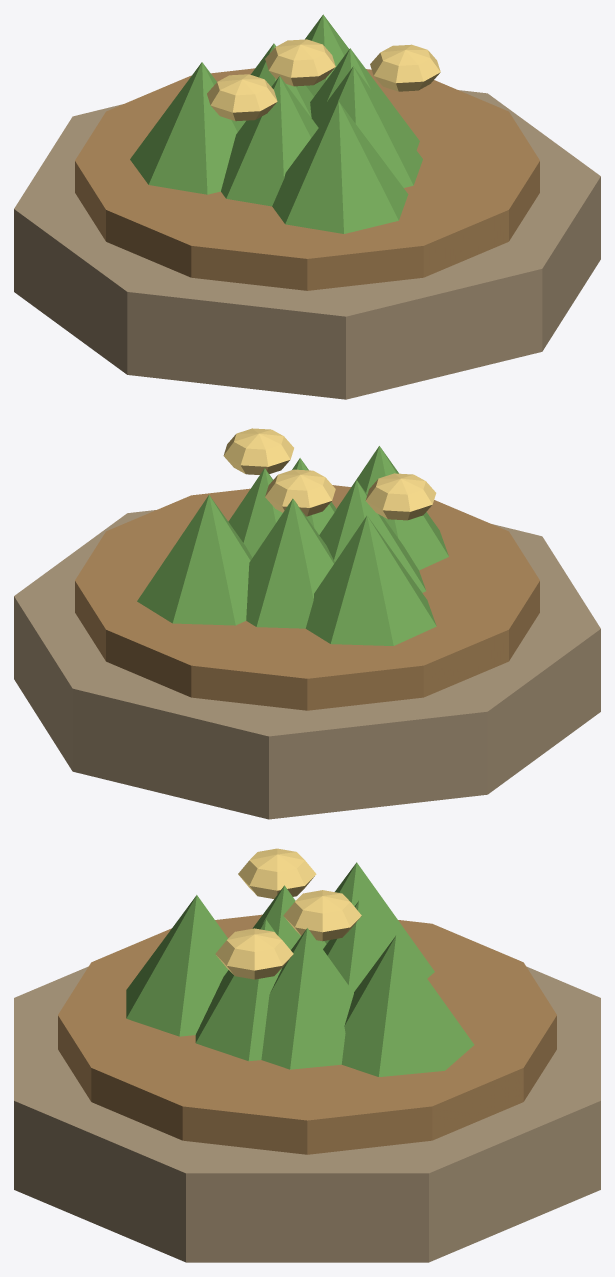
Rendered from city-module-flowerbed-lod0.glb.
3 views of the same model, one above another, from view 1: azimuth 30°, elevation 25°; view 2: azimuth 150°, elevation 25°; view 3: azimuth 270°, elevation 25° (orthographic). The views are drawn at different scales.
Parts seen in each view (by area): view 1: module_flowerbed_stone_ring, module_flowerbed_soil, module_flowerbed_leaf_6, module_flowerbed_leaf_4, module_flowerbed_leaf_5, module_flowerbed_leaf_7, module_flowerbed_blossom_3, module_flowerbed_blossom_2, module_flowerbed_blossom_1, module_flowerbed_leaf_1, module_flowerbed_leaf_2, module_flowerbed_leaf_3; view 2: module_flowerbed_stone_ring, module_flowerbed_soil, module_flowerbed_leaf_4, module_flowerbed_leaf_2, module_flowerbed_leaf_3, module_flowerbed_leaf_5, module_flowerbed_leaf_6, module_flowerbed_blossom_3, module_flowerbed_blossom_2, module_flowerbed_blossom_1, module_flowerbed_leaf_1, module_flowerbed_leaf_7; view 3: module_flowerbed_stone_ring, module_flowerbed_soil, module_flowerbed_leaf_2, module_flowerbed_leaf_1, module_flowerbed_leaf_6, module_flowerbed_leaf_7, module_flowerbed_blossom_2, module_flowerbed_leaf_3, module_flowerbed_blossom_1, module_flowerbed_blossom_3, module_flowerbed_leaf_4, module_flowerbed_leaf_5.
Boxes of the visible parts, bbox=[...] form: module_flowerbed_stone_ring: bbox=[14, 90, 600, 399]; module_flowerbed_soil: bbox=[75, 68, 539, 290]; module_flowerbed_leaf_6: bbox=[272, 101, 408, 233]; module_flowerbed_leaf_4: bbox=[130, 62, 245, 194]; module_flowerbed_leaf_5: bbox=[221, 76, 318, 206]; module_flowerbed_leaf_7: bbox=[313, 66, 422, 187]; module_flowerbed_blossom_3: bbox=[207, 74, 277, 121]; module_flowerbed_blossom_2: bbox=[370, 44, 440, 91]; module_flowerbed_blossom_1: bbox=[265, 39, 335, 86]; module_flowerbed_leaf_1: bbox=[310, 48, 419, 149]; module_flowerbed_leaf_2: bbox=[305, 14, 348, 96]; module_flowerbed_leaf_3: bbox=[245, 43, 313, 121]; module_flowerbed_stone_ring: bbox=[14, 510, 600, 819]; module_flowerbed_soil: bbox=[75, 485, 539, 710]; module_flowerbed_leaf_4: bbox=[305, 515, 436, 645]; module_flowerbed_leaf_2: bbox=[137, 495, 252, 625]; module_flowerbed_leaf_3: bbox=[246, 498, 334, 628]; module_flowerbed_leaf_5: bbox=[319, 480, 426, 592]; module_flowerbed_leaf_6: bbox=[336, 446, 448, 570]; module_flowerbed_blossom_3: bbox=[365, 473, 436, 520]; module_flowerbed_blossom_2: bbox=[223, 428, 293, 474]; module_flowerbed_blossom_1: bbox=[265, 469, 335, 516]; module_flowerbed_leaf_1: bbox=[228, 468, 282, 557]; module_flowerbed_leaf_7: bbox=[292, 458, 336, 534]; module_flowerbed_stone_ring: bbox=[14, 966, 600, 1262]; module_flowerbed_soil: bbox=[58, 914, 556, 1154]; module_flowerbed_leaf_2: bbox=[341, 935, 474, 1076]; module_flowerbed_leaf_1: bbox=[261, 928, 353, 1069]; module_flowerbed_leaf_6: bbox=[126, 895, 228, 1036]; module_flowerbed_leaf_7: bbox=[195, 919, 281, 1061]; module_flowerbed_blossom_2: bbox=[215, 928, 293, 979]; module_flowerbed_leaf_3: bbox=[323, 900, 389, 992]; module_flowerbed_blossom_1: bbox=[283, 890, 361, 941]; module_flowerbed_blossom_3: bbox=[238, 848, 316, 898]; module_flowerbed_leaf_4: bbox=[324, 862, 434, 978]; module_flowerbed_leaf_5: bbox=[252, 885, 326, 949].
Bounding box in the file's own units: 0.388 × 0.1768 × 0.388.
